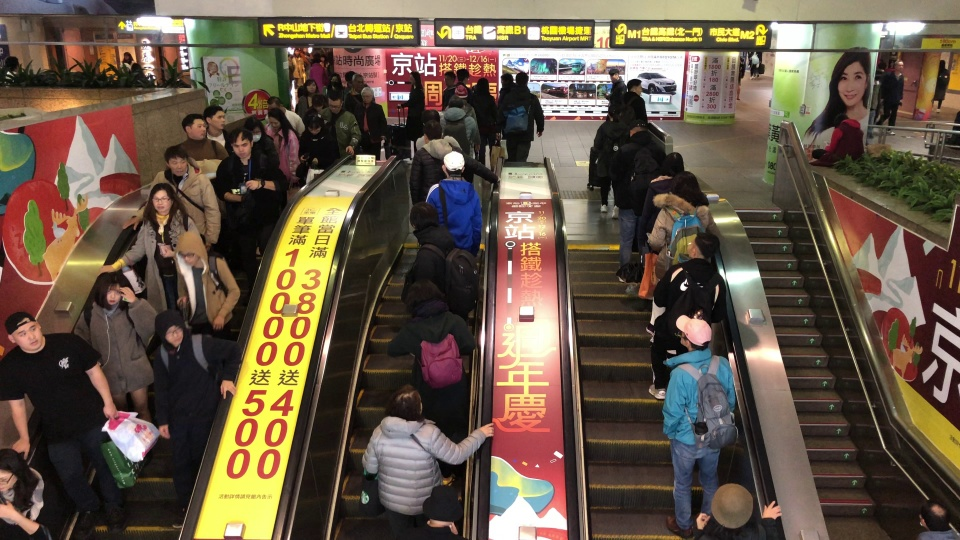person_head: (710, 482, 754, 531), (420, 484, 461, 527), (0, 448, 32, 502), (4, 312, 45, 353), (403, 280, 445, 317), (674, 313, 713, 352), (92, 272, 130, 312), (668, 171, 708, 208), (386, 384, 425, 421), (152, 311, 186, 348), (174, 233, 207, 268), (685, 232, 719, 263), (146, 183, 176, 215), (409, 201, 439, 232), (225, 128, 254, 159), (914, 501, 949, 526), (162, 144, 189, 175), (440, 150, 466, 180), (180, 113, 206, 140), (659, 151, 684, 176), (203, 105, 226, 131), (632, 148, 655, 173), (242, 116, 264, 141), (265, 109, 288, 131), (422, 120, 442, 144), (265, 95, 286, 116), (324, 93, 344, 115), (304, 115, 324, 136), (605, 100, 624, 121), (422, 108, 440, 130), (625, 77, 644, 96), (830, 113, 850, 129), (628, 122, 646, 139), (455, 67, 470, 85), (515, 71, 529, 90), (2, 55, 19, 70), (360, 86, 374, 104), (311, 92, 325, 109), (447, 96, 464, 110), (475, 77, 490, 92), (344, 70, 357, 87), (443, 71, 456, 88), (304, 79, 318, 94), (328, 73, 342, 88), (499, 72, 514, 86), (409, 71, 422, 87), (452, 85, 468, 98), (607, 69, 620, 82), (131, 62, 142, 75), (352, 73, 363, 86), (893, 60, 904, 72), (119, 63, 131, 73), (936, 59, 946, 69), (121, 51, 132, 60), (878, 61, 887, 71), (312, 54, 321, 63), (873, 69, 880, 80), (292, 48, 300, 57), (302, 46, 309, 53)
person_vbox: (0, 311, 128, 535), (361, 384, 493, 540), (148, 311, 236, 531), (657, 313, 739, 530), (647, 232, 730, 401), (96, 182, 203, 313), (386, 279, 476, 430), (641, 171, 721, 332), (76, 272, 159, 422), (120, 144, 222, 250), (399, 200, 481, 329), (215, 129, 291, 255), (609, 121, 664, 281), (407, 120, 497, 205), (173, 232, 240, 336), (421, 150, 484, 258), (689, 482, 783, 540), (636, 151, 686, 260), (0, 448, 52, 539), (588, 101, 628, 217), (176, 113, 229, 197), (498, 71, 545, 163), (410, 484, 470, 540), (806, 113, 866, 169), (317, 95, 361, 164), (261, 109, 301, 183), (470, 76, 501, 171), (626, 148, 663, 221), (398, 71, 426, 163), (298, 115, 338, 179), (234, 116, 282, 169), (437, 96, 477, 158), (355, 86, 387, 158), (413, 107, 463, 150), (879, 59, 906, 136), (263, 95, 305, 137), (614, 77, 649, 125), (914, 502, 958, 539), (201, 104, 232, 154), (443, 85, 478, 128), (600, 68, 627, 120), (863, 69, 880, 139), (496, 72, 515, 134), (929, 58, 950, 114), (874, 59, 890, 124), (450, 66, 473, 103), (299, 78, 319, 118), (346, 73, 368, 109), (309, 53, 328, 94), (1, 55, 23, 87), (440, 71, 456, 111), (291, 48, 305, 90), (307, 93, 328, 118), (301, 45, 314, 79), (130, 61, 147, 84), (327, 73, 344, 96), (343, 70, 358, 95), (117, 62, 132, 84), (120, 51, 134, 66)
